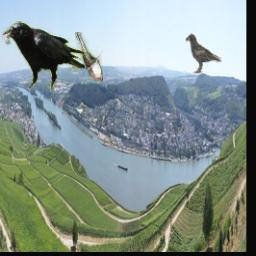Crow: (0, 22, 85, 89), (187, 33, 222, 73)
Cuckoo: (76, 33, 104, 82)
